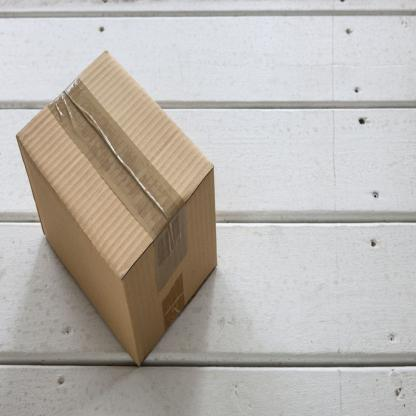package: (9, 38, 226, 386)
